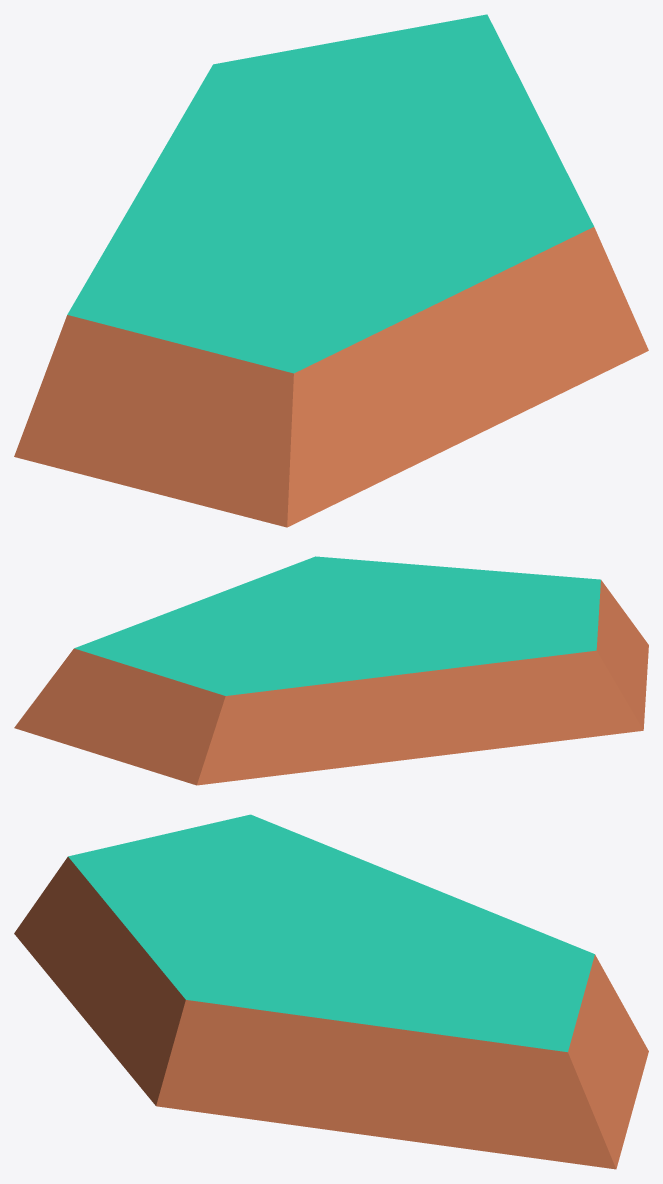
File: rock_smallFlatB.dae
The picture shows the model from 3 angles, top to bottom: view 1: azimuth 30°, elevation 25°; view 2: azimuth 150°, elevation 25°; view 3: azimuth 270°, elevation 25°; orthographic projection. The views are drawn at different scales.
Visible parts, largest first — view 1: rock_smallFlatB; view 2: rock_smallFlatB; view 3: rock_smallFlatB.
Boxes of the visible parts, bbox=[...] form: rock_smallFlatB: bbox=[14, 14, 648, 527]; rock_smallFlatB: bbox=[14, 556, 648, 785]; rock_smallFlatB: bbox=[14, 814, 648, 1169].
Bounding box in the file's own units: 0.4295 × 0.0649 × 0.4024.
